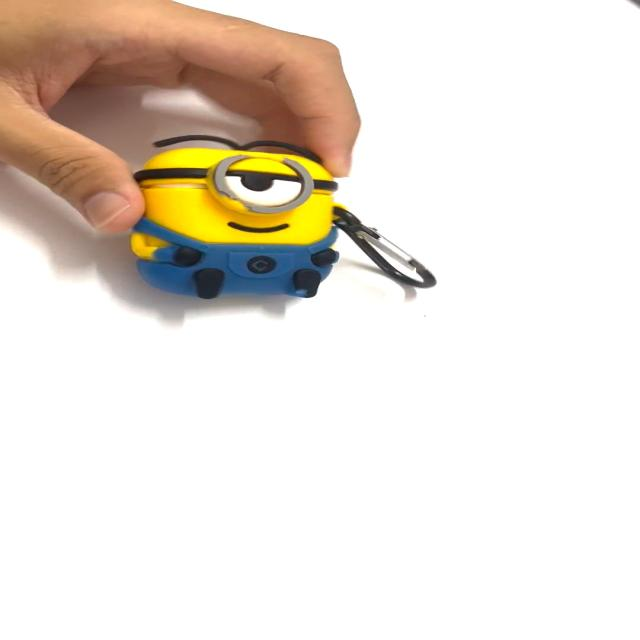airpod minion: (120, 137, 462, 318)
